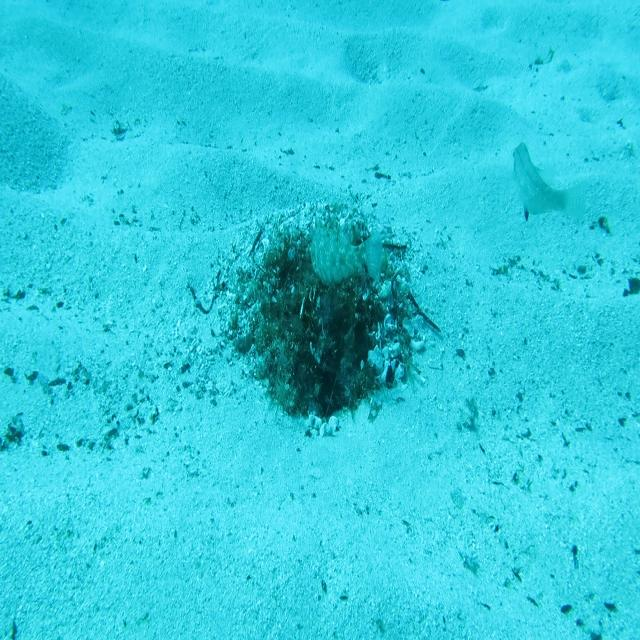NIP_CORE: (304, 213, 384, 287)
core_nest: (292, 253, 342, 290)
female: (510, 138, 590, 230)
nest: (202, 193, 422, 440)
vegetation: (624, 273, 640, 293)
